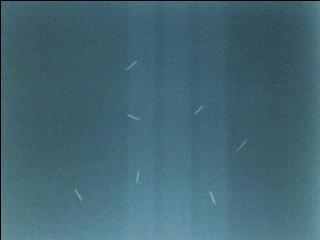scratch: (71, 185, 85, 204), (207, 187, 219, 207), (125, 111, 144, 123), (234, 138, 249, 153), (123, 57, 139, 71), (192, 103, 204, 116), (135, 169, 142, 185)
